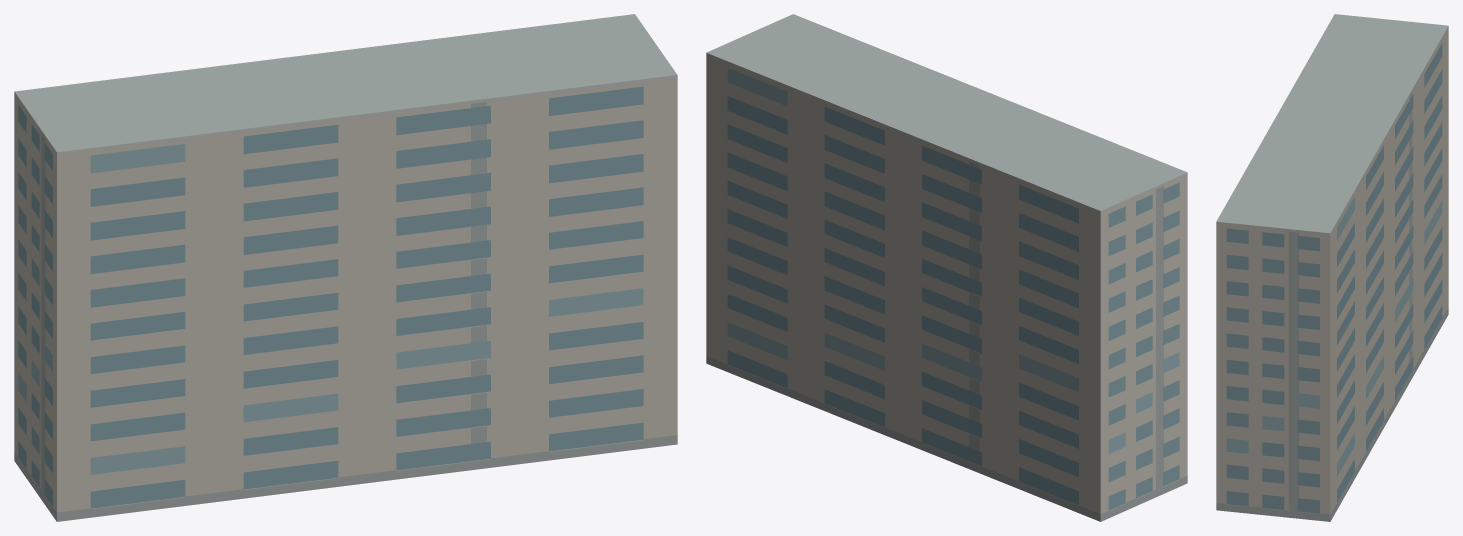
Rendered from residential-b5e6c590-1ee4-4865-a1ad-c6cb05e8db29.glb.
3 renders of one model, left to right at view 1: azimuth 30°, elevation 25°; view 2: azimuth 150°, elevation 25°; view 3: azimuth 270°, elevation 25°, orthographic. The views are drawn at different scales.
Parts seen in each view (by area): view 1: residential-b5e6c590-1ee4-4865-a1ad-c6cb05e8db29.tmp; view 2: residential-b5e6c590-1ee4-4865-a1ad-c6cb05e8db29.tmp; view 3: residential-b5e6c590-1ee4-4865-a1ad-c6cb05e8db29.tmp.
Boxes of the visible parts, x1=… form: residential-b5e6c590-1ee4-4865-a1ad-c6cb05e8db29.tmp: x1=14, y1=14, x2=677, y2=521; residential-b5e6c590-1ee4-4865-a1ad-c6cb05e8db29.tmp: x1=706, y1=14, x2=1187, y2=521; residential-b5e6c590-1ee4-4865-a1ad-c6cb05e8db29.tmp: x1=1216, y1=14, x2=1448, y2=521.
Size of the model in its own units: 47.25 by 29 by 21.17.
